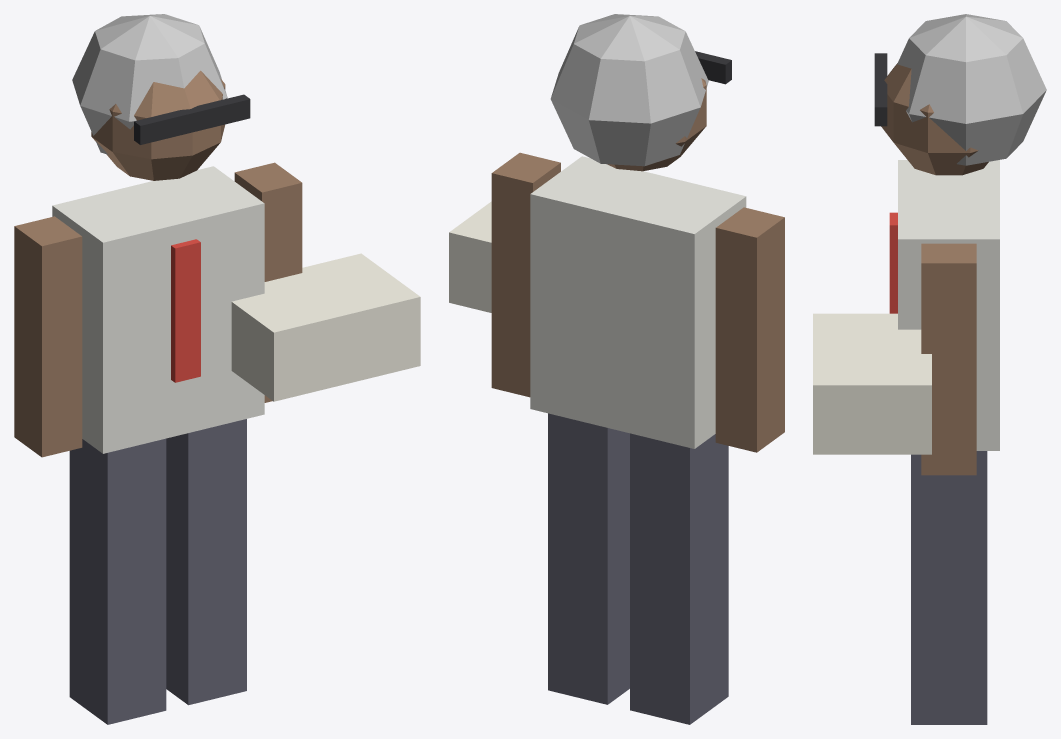
File: CH_Lecturer.glb
3 renders of one model, left to right at view 1: azimuth 30°, elevation 25°; view 2: azimuth 150°, elevation 25°; view 3: azimuth 270°, elevation 25°, orthographic.
Visible parts, largest first — view 1: torso.003, legL.003, legR.003, handout, armL.003, hair.003, head.003, armR.003, tie, glasses; view 2: torso.003, legL.003, legR.003, hair.003, armL.003, armR.003, handout, head.003, glasses; view 3: legR.003, handout, hair.003, torso.003, armR.003, head.003, glasses, tie.
Part boxes in pixels (x1=…): torso.003: x1=52, y1=166, x2=264, y2=453; legL.003: x1=69, y1=438, x2=166, y2=724; legR.003: x1=166, y1=419, x2=246, y2=705; handout: x1=231, y1=253, x2=420, y2=401; armL.003: x1=14, y1=216, x2=82, y2=457; hair.003: x1=72, y1=14, x2=227, y2=154; head.003: x1=91, y1=70, x2=225, y2=180; armR.003: x1=234, y1=162, x2=302, y2=402; tie: x1=171, y1=239, x2=200, y2=382; glasses: x1=134, y1=94, x2=250, y2=144; torso.003: x1=530, y1=156, x2=746, y2=448; legL.003: x1=630, y1=433, x2=728, y2=724; legR.003: x1=548, y1=413, x2=629, y2=704; hair.003: x1=550, y1=14, x2=708, y2=166; armL.003: x1=715, y1=207, x2=784, y2=452; armR.003: x1=491, y1=152, x2=560, y2=397; handout: x1=449, y1=201, x2=491, y2=312; head.003: x1=607, y1=78, x2=706, y2=171; glasses: x1=695, y1=51, x2=731, y2=84; legR.003: x1=911, y1=451, x2=987, y2=724; handout: x1=813, y1=313, x2=931, y2=454; hair.003: x1=897, y1=14, x2=1046, y2=165; torso.003: x1=898, y1=160, x2=999, y2=450; armR.003: x1=921, y1=243, x2=976, y2=475; head.003: x1=881, y1=63, x2=988, y2=175; glasses: x1=874, y1=53, x2=887, y2=126; tie: x1=889, y1=212, x2=897, y2=313.
Size of the model in its own units: 0.885 by 1.75 by 0.55.
